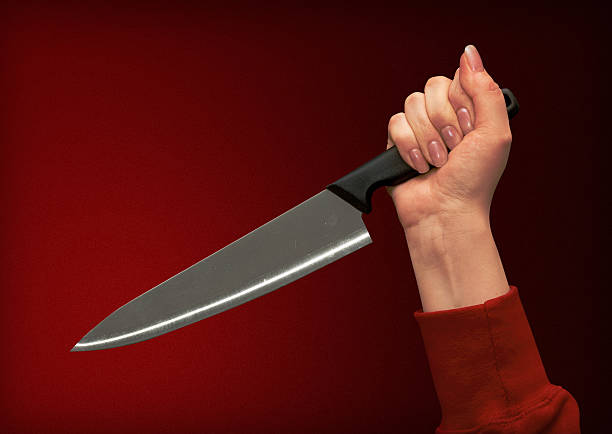knife: (68, 181, 375, 355)
